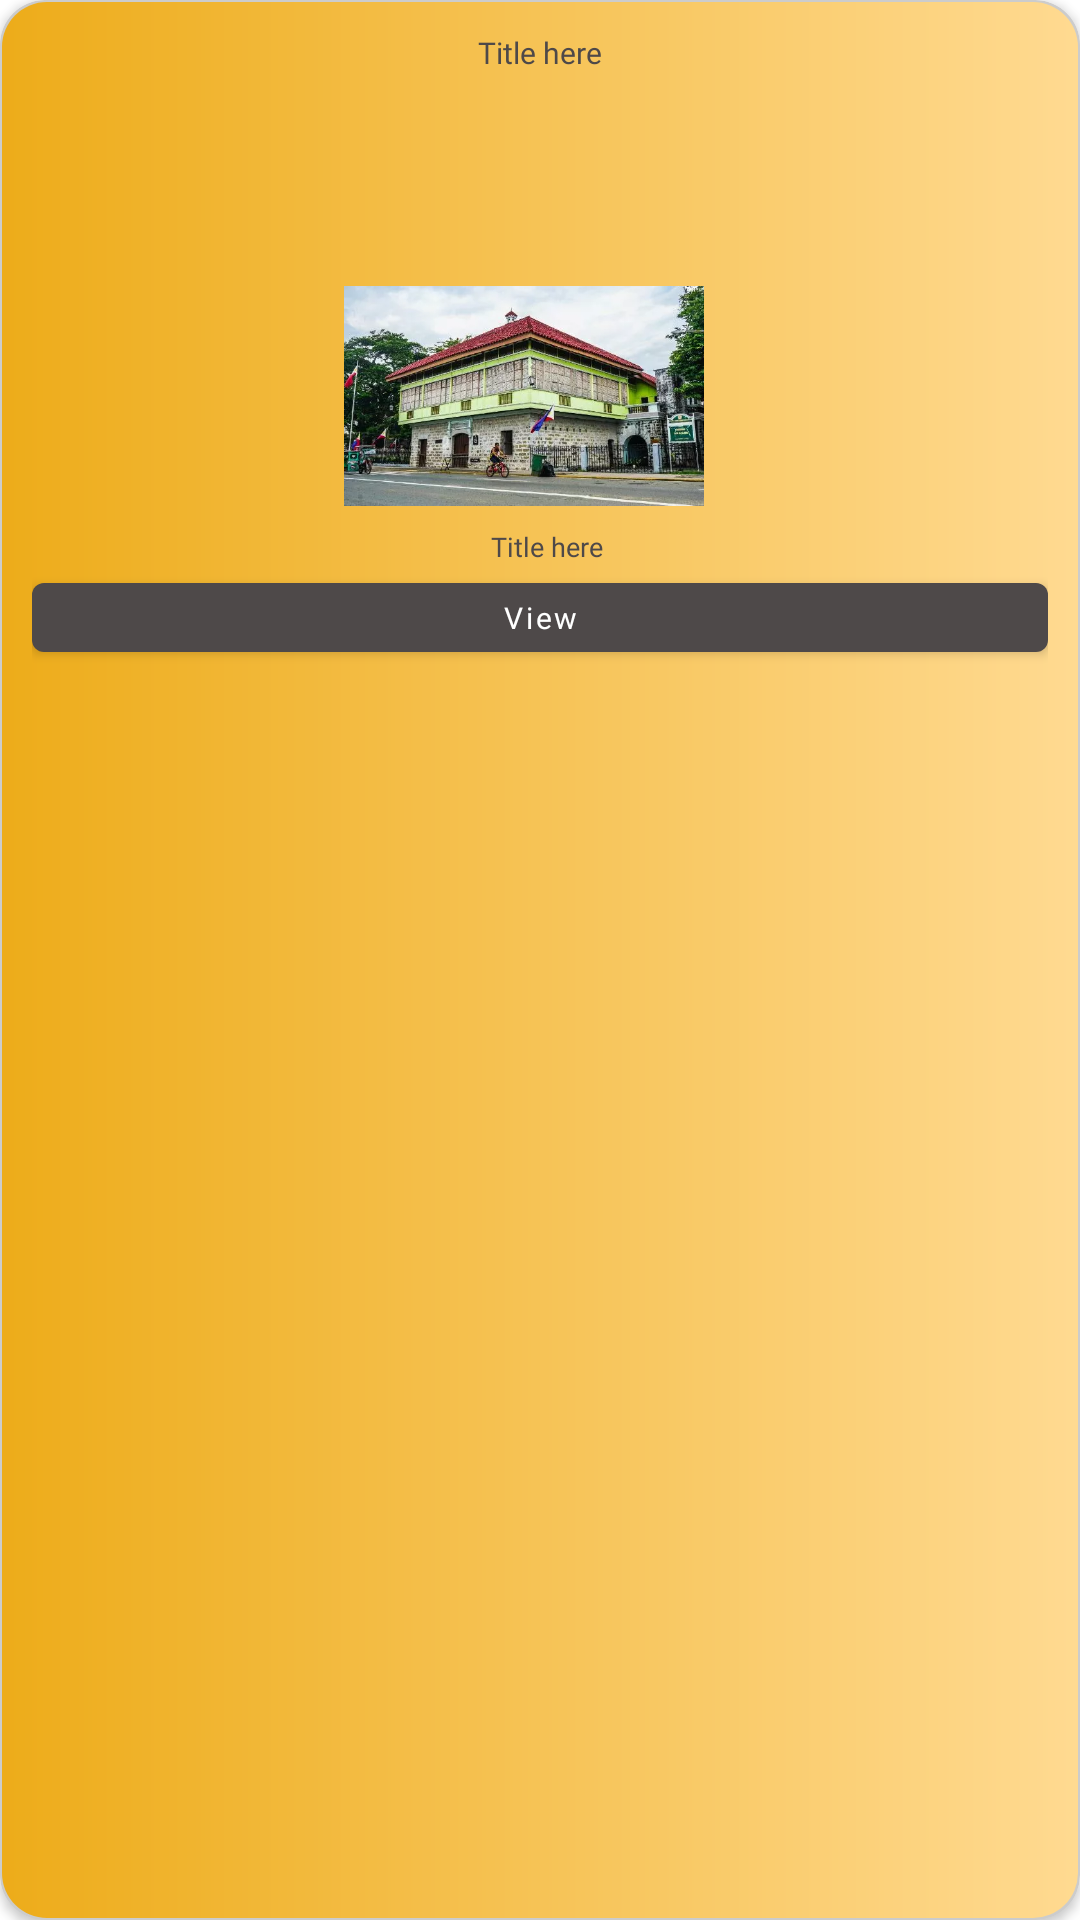

Icon click points for this 1080 x 1920 phone screenshot, format (x,y):
rizal shrine: (524,396)
